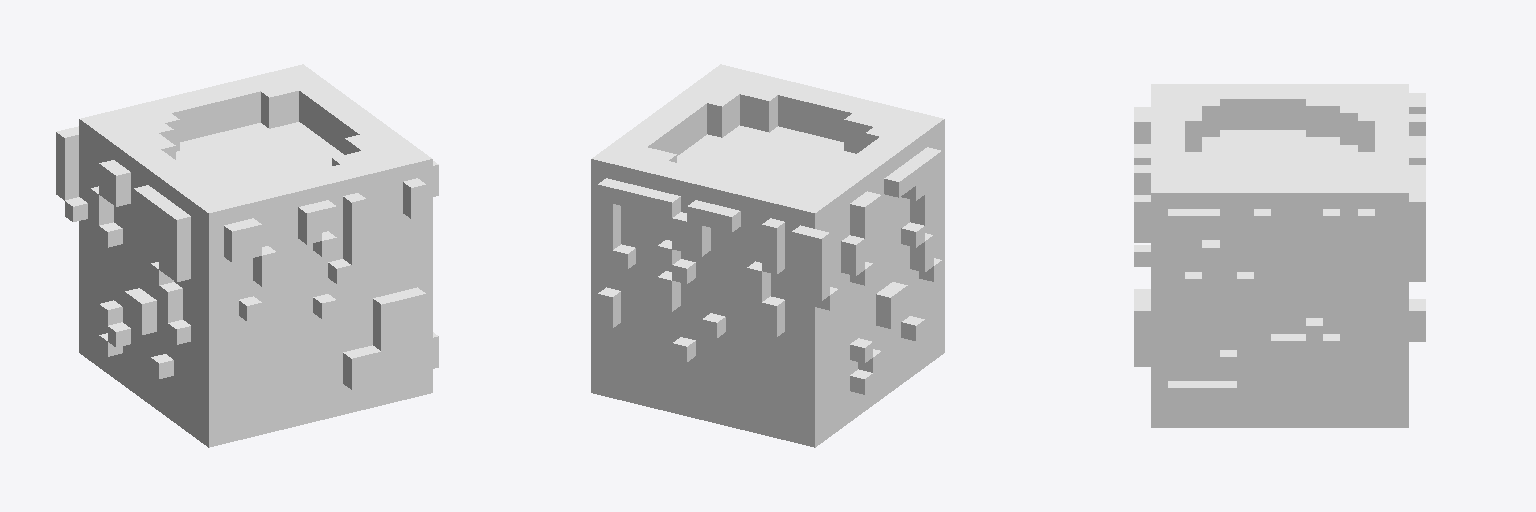
The model's file is Lava01.obj.
3 views of the same model, side by side, from view 1: azimuth 30°, elevation 25°; view 2: azimuth 150°, elevation 25°; view 3: azimuth 270°, elevation 25° (orthographic).
Parts seen in each view (by area): view 1: object 1; view 2: object 1; view 3: object 1.
Part boxes in pixels (x1,y1,x2,y2): object 1: (56, 64, 438, 447); object 1: (591, 64, 944, 447); object 1: (1134, 84, 1425, 427).
Size of the model in its own units: 1.7 by 1.5 by 1.7.